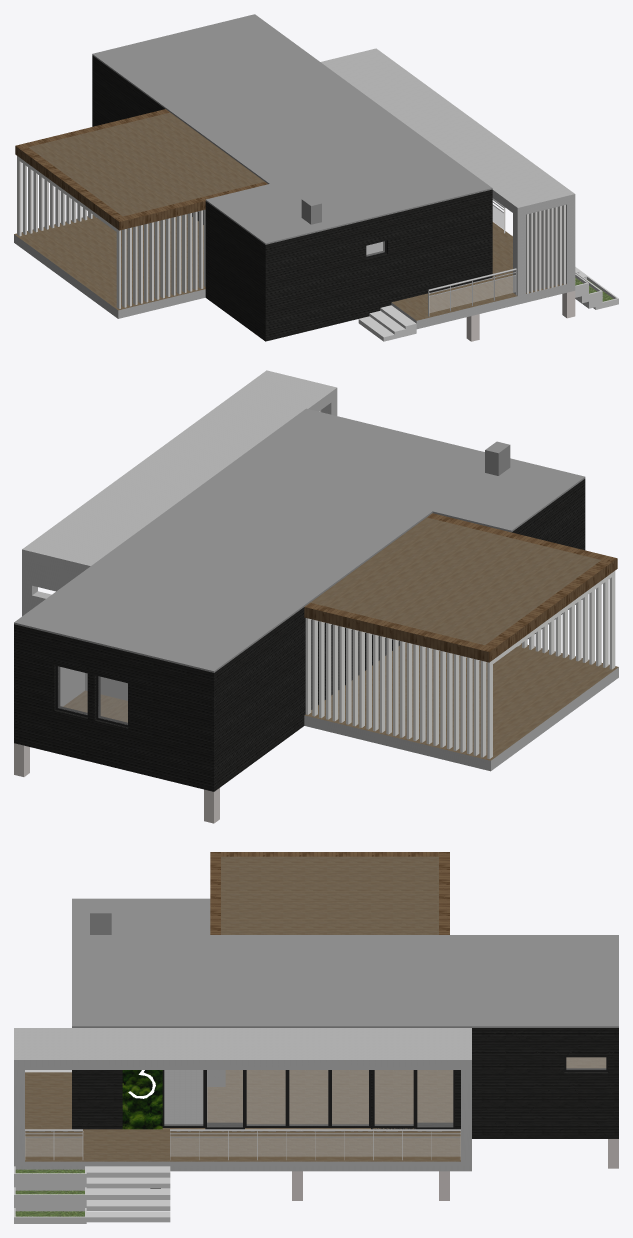
Rendered from Module1+2+3+4.glb.
3 views of the same model, one above another, from view 1: azimuth 30°, elevation 25°; view 2: azimuth 150°, elevation 25°; view 3: azimuth 270°, elevation 25° (orthographic). The views are drawn at different scales.
Visible parts, largest first — view 1: Этаж по умолчанию, Темное дерево, Пол деревянное покрытие, Штукатурка, Сталь, углеродистая, Светлое дерево, Бетон - Керамзитобетонные блоки, Стекло, Бетон, монолитный, DEFAULT, Стена по умолчанию; view 2: Этаж по умолчанию, Темное дерево, Пол деревянное покрытие, Штукатурка, Сталь, углеродистая, Светлое дерево, Стекло, Бетон, монолитный, Черный, Стена по умолчанию; view 3: Этаж по умолчанию, Пол деревянное покрытие, Штукатурка, Стекло, Темное дерево, Бетон - Керамзитобетонные блоки, Черный, Светлое дерево, DEFAULT, Живая стена, Пол плитка, Трава (+2 smaller).
Boxes of the visible parts, x1,y1,x2,y2 form: Этаж по умолчанию: (92, 14, 586, 306); Темное дерево: (92, 55, 492, 341); Пол деревянное покрытие: (14, 112, 566, 320); Штукатурка: (14, 48, 575, 329); Сталь, углеродистая: (17, 156, 565, 308); Светлое дерево: (15, 109, 267, 230); Бетон - Керамзитобетонные блоки: (358, 235, 618, 341); Стекло: (366, 206, 515, 312); Бетон, монолитный: (466, 291, 575, 341); DEFAULT: (428, 198, 516, 296); Стена по умолчанию: (301, 196, 321, 224); Этаж по умолчанию: (14, 408, 585, 672); Темное дерево: (14, 479, 585, 791); Пол деревянное покрытие: (63, 517, 618, 760); Штукатурка: (22, 370, 618, 771); Сталь, углеродистая: (305, 410, 615, 759); Светлое дерево: (304, 513, 617, 662); Стекло: (58, 666, 127, 724); Бетон, монолитный: (14, 743, 219, 823); Черный: (55, 665, 128, 727); Стена по умолчанию: (485, 441, 510, 475); Этаж по умолчанию: (72, 898, 618, 1027); Пол деревянное покрытие: (25, 856, 606, 1161); Штукатурка: (14, 1028, 471, 1171); Стекло: (25, 1057, 605, 1156); Темное дерево: (72, 1028, 618, 1188); Бетон - Керамзитобетонные блоки: (14, 1070, 170, 1223); Черный: (162, 1056, 607, 1129); Светлое дерево: (210, 852, 449, 934); DEFAULT: (25, 1129, 460, 1137); Живая стена: (122, 1070, 162, 1129); Пол плитка: (164, 1070, 207, 1124); Трава: (15, 1169, 84, 1216).
Bounding box in the file's own units: 15.19 × 4.98 × 16.65.
Materials: 20 (10 with a texture image).
